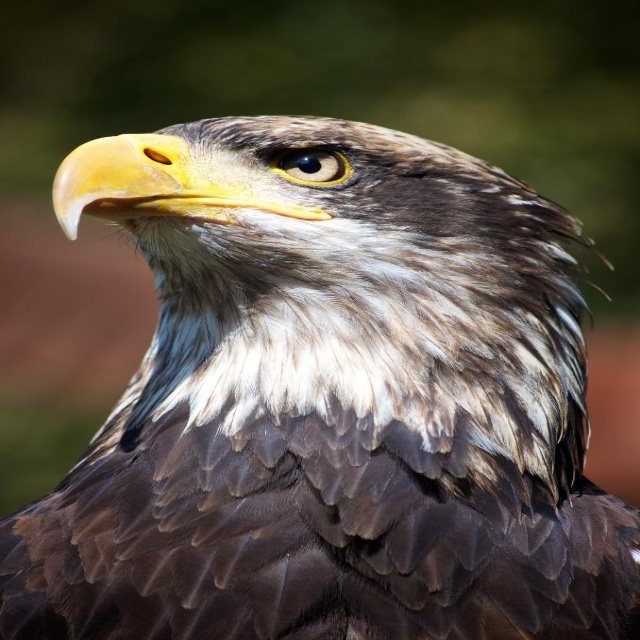Eagle: (0, 112, 639, 640)
